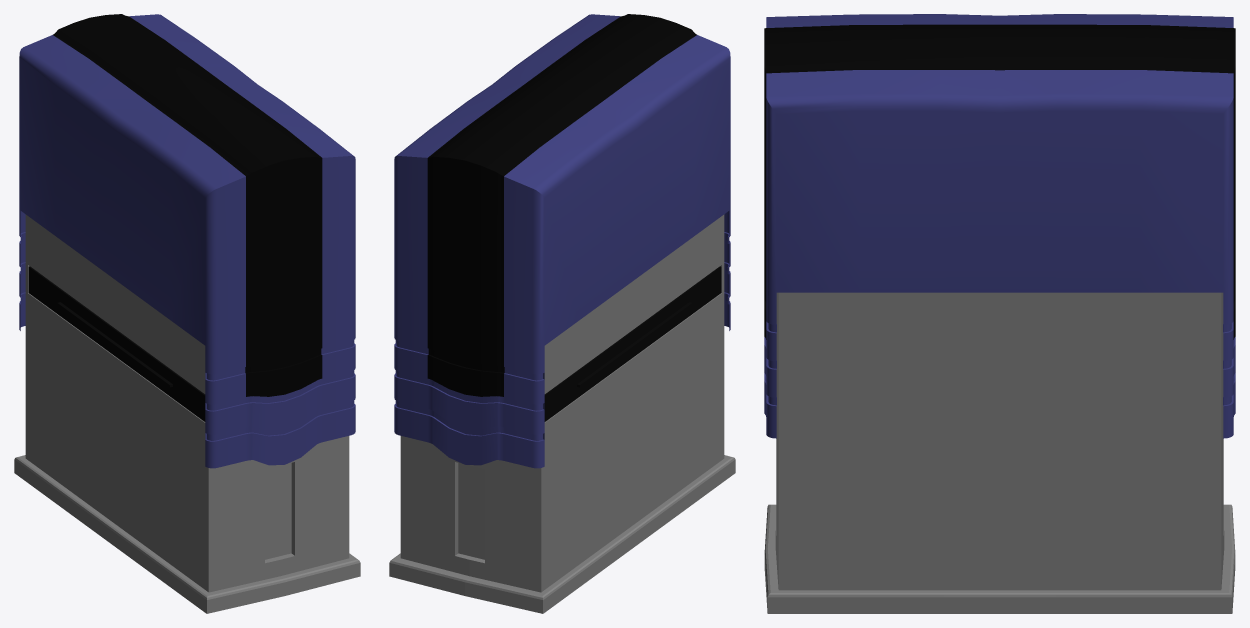
File: damga8.fbx
3 views of the same model, side by side, from view 1: azimuth 30°, elevation 25°; view 2: azimuth 150°, elevation 25°; view 3: azimuth 270°, elevation 25° (orthographic). The views are drawn at different scales.
Parts seen in each view (by area): view 1: damga8; view 2: damga8; view 3: damga8.
Part boxes in pixels (x1=…): damga8: x1=14, y1=14, x2=360, y2=613; damga8: x1=389, y1=14, x2=735, y2=613; damga8: x1=764, y1=14, x2=1235, y2=613.
Bounding box in the file's own units: 153 × 69.74 × 191.
